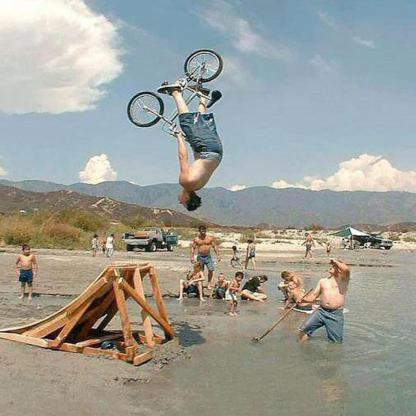face: (179, 192, 190, 208), (330, 263, 338, 274), (25, 248, 31, 255), (201, 230, 207, 236), (238, 275, 243, 282), (220, 276, 225, 282), (290, 284, 295, 290), (285, 278, 292, 282), (195, 266, 199, 271)
